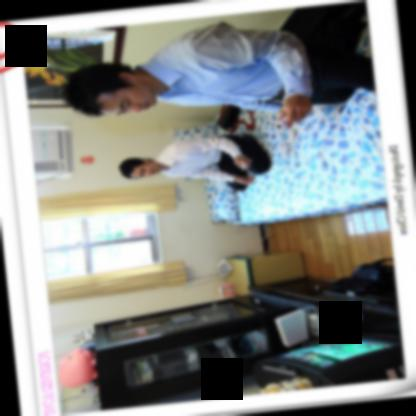backpack: (332, 257, 396, 290)
handbag: (215, 103, 254, 132)
